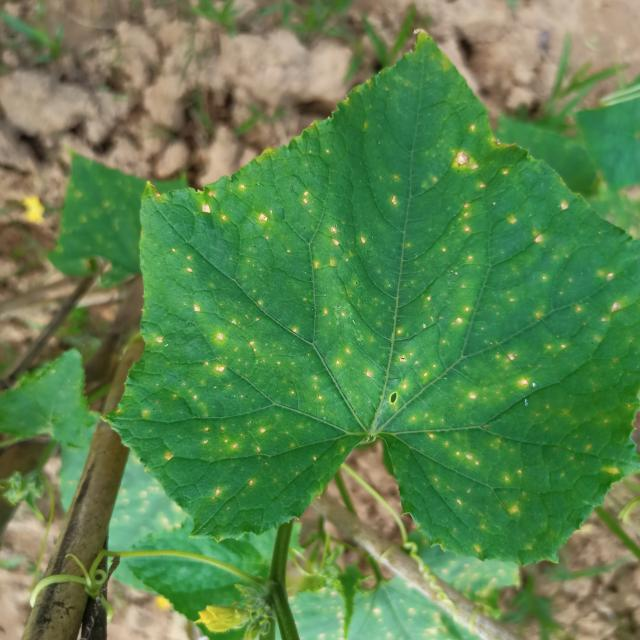disease_cucumber: (144, 105, 626, 534)
